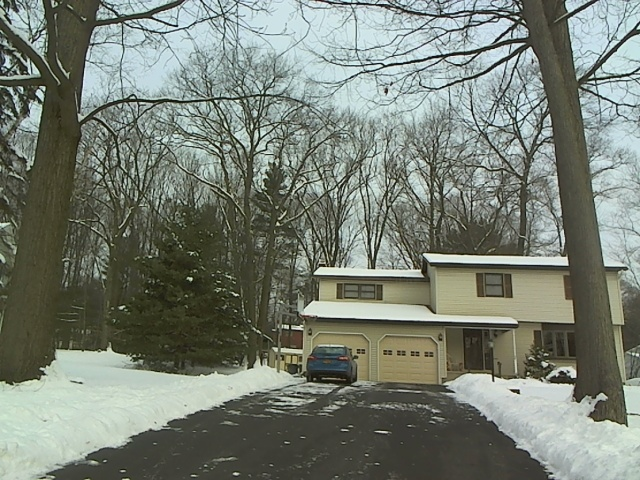Ploughed: (171, 376, 450, 479)
